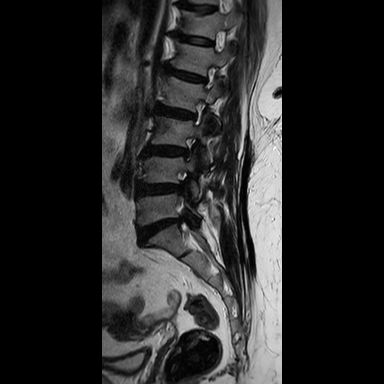RFS0: (186, 95, 210, 132), (198, 60, 221, 95)
RFS1: (177, 132, 200, 164)
